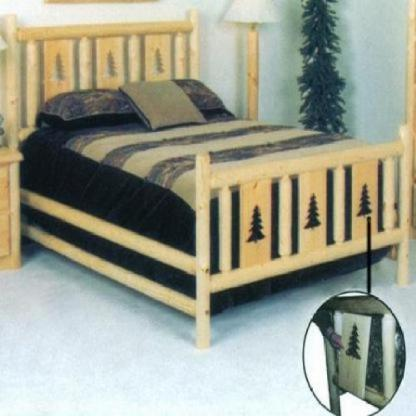Bed: (0, 8, 416, 359)
